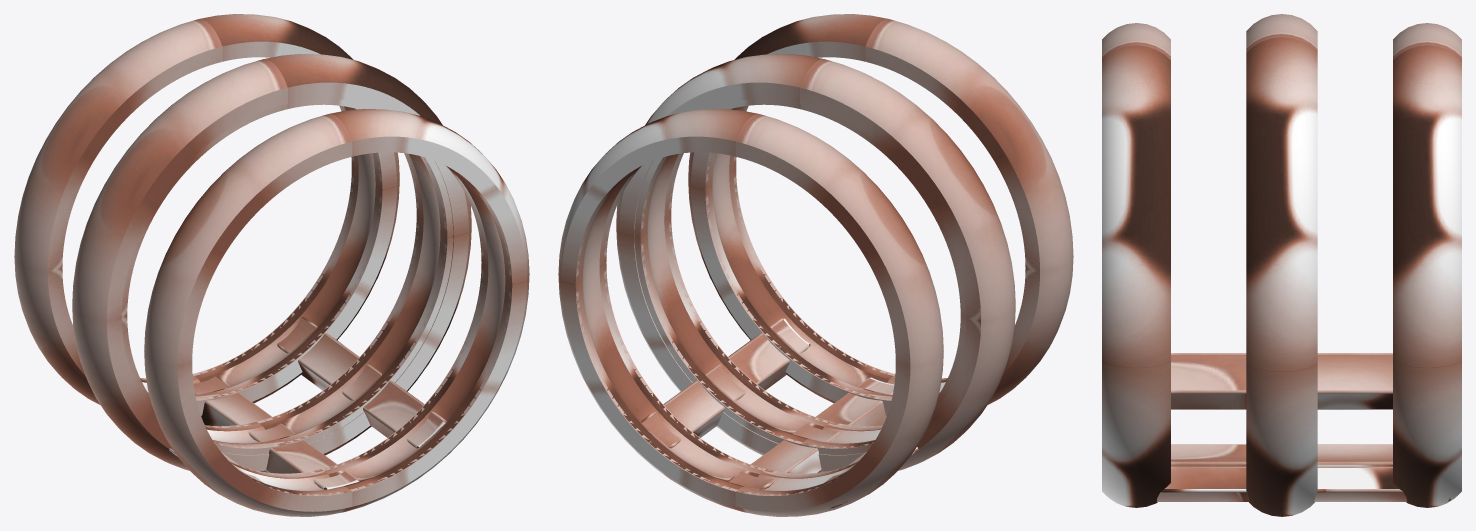
File: anillo de anillos pesado liso.fbx
The picture shows the model from 3 angles, left to right: view 1: azimuth 30°, elevation 25°; view 2: azimuth 150°, elevation 25°; view 3: azimuth 270°, elevation 25°; orthographic projection. The views are drawn at different scales.
Parts seen in each view (by area): view 1: Objeto_51, Objeto_41, Objeto_44, Objeto_48, Objeto_38, Objeto_49, Objeto_47, Objeto_37, Objeto_46, Objeto_35, Objeto_32, Objeto_36 (+4 smaller); view 2: Objeto_44, Objeto_41, Objeto_51, Objeto_47, Objeto_38, Objeto_46, Objeto_48, Objeto_37, Objeto_49, Objeto_35, Objeto_32, Objeto_36 (+4 smaller); view 3: Objeto_41, Objeto_44, Objeto_51, Objeto_38, Objeto_48, Objeto_47, Objeto_34, Objeto_35, Objeto_32.
Part boxes in pixels (<box>): Objeto_51: <box>144,109,529,366</box>; Objeto_41: <box>72,54,471,321</box>; Objeto_44: <box>14,14,399,271</box>; Objeto_48: <box>144,263,529,516</box>; Objeto_38: <box>72,229,471,472</box>; Objeto_49: <box>230,265,511,495</box>; Objeto_47: <box>14,168,399,416</box>; Objeto_37: <box>205,217,446,448</box>; Objeto_46: <box>140,170,381,400</box>; Objeto_35: <box>277,316,446,448</box>; Objeto_32: <box>193,376,359,489</box>; Objeto_36: <box>122,215,453,454</box>; Objeto_44: <box>558,109,943,366</box>; Objeto_41: <box>616,54,1015,321</box>; Objeto_51: <box>688,14,1073,271</box>; Objeto_47: <box>558,263,943,516</box>; Objeto_38: <box>616,229,1015,472</box>; Objeto_46: <box>576,265,857,495</box>; Objeto_48: <box>688,168,1073,416</box>; Objeto_37: <box>641,217,882,448</box>; Objeto_49: <box>706,170,947,400</box>; Objeto_35: <box>641,318,810,448</box>; Objeto_32: <box>727,377,894,489</box>; Objeto_36: <box>634,215,965,454</box>; Objeto_41: <box>1246,14,1317,371</box>; Objeto_44: <box>1393,23,1461,367</box>; Objeto_51: <box>1102,23,1170,367</box>; Objeto_38: <box>1246,364,1317,516</box>; Objeto_48: <box>1102,361,1170,507</box>; Objeto_47: <box>1393,361,1461,507</box>; Objeto_34: <box>1171,353,1392,409</box>; Objeto_35: <box>1156,466,1450,501</box>; Objeto_32: <box>1171,444,1392,466</box>.
Bounding box in the file's own units: 20.06 × 14.33 × 20.06.
Materials: 1 (1 with a texture image).
